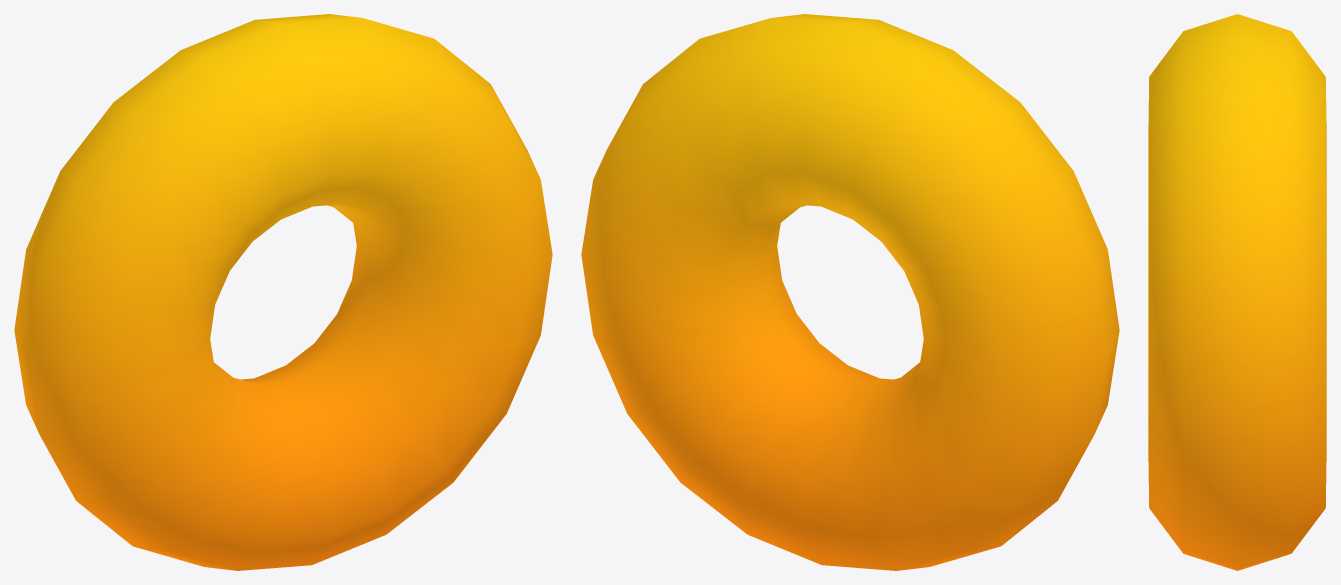
File: Gem_04.glb
3 views of the same model, side by side, from view 1: azimuth 30°, elevation 25°; view 2: azimuth 150°, elevation 25°; view 3: azimuth 270°, elevation 25° (orthographic). The views are drawn at different scales.
Parts seen in each view (by area): view 1: Gem_04; view 2: Gem_04; view 3: Gem_04.
Boxes of the visible parts, <box> form: Gem_04: <box>14,14,552,570</box>; Gem_04: <box>581,14,1119,570</box>; Gem_04: <box>1148,14,1326,570</box>.
Size of the model in its own units: 1.14 by 1.14 by 0.3625.
1 material, 1 textured.
